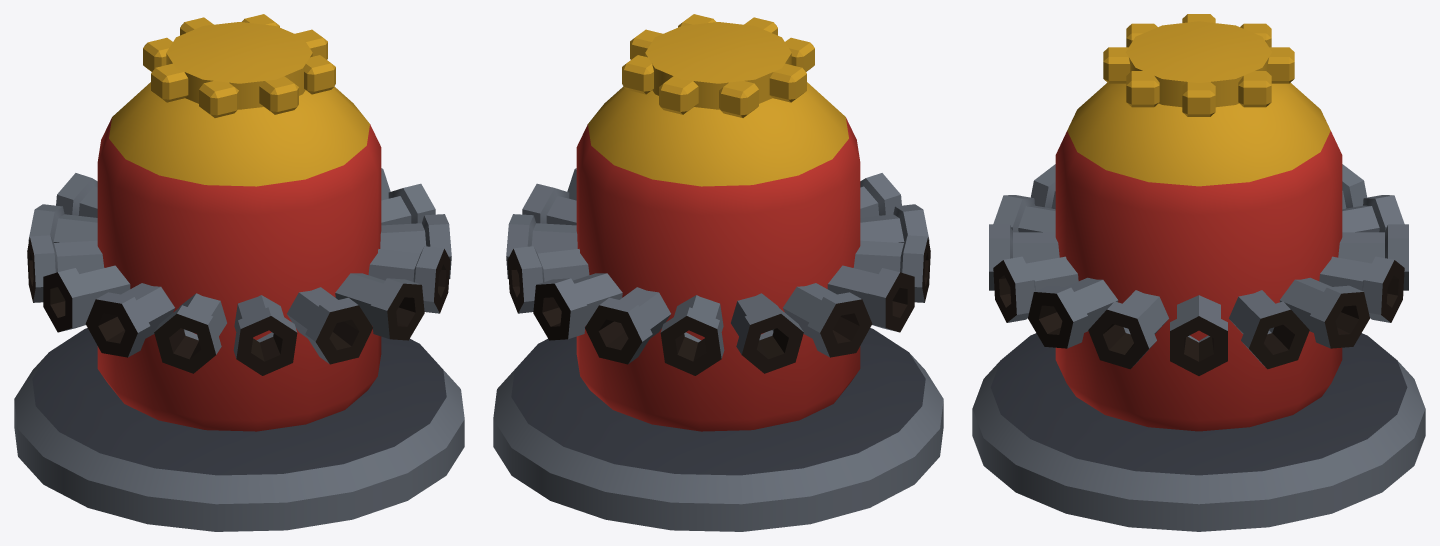
The picture shows the model from 3 angles, left to right: view 1: azimuth 30°, elevation 25°; view 2: azimuth 150°, elevation 25°; view 3: azimuth 270°, elevation 25°; orthographic projection.
Parts seen in each view (by area): view 1: tachinha_1_torreta, tachinha_0_base; view 2: tachinha_1_torreta, tachinha_0_base; view 3: tachinha_1_torreta, tachinha_0_base.
Boxes of the visible parts, bbox=[...] form: tachinha_1_torreta: bbox=[27, 14, 451, 431]; tachinha_0_base: bbox=[14, 328, 464, 531]; tachinha_1_torreta: bbox=[506, 14, 930, 431]; tachinha_0_base: bbox=[493, 328, 943, 531]; tachinha_1_torreta: bbox=[989, 14, 1408, 431]; tachinha_0_base: bbox=[972, 333, 1425, 531].
Bounding box in the file's own units: 0.68 × 0.645 × 0.68.
